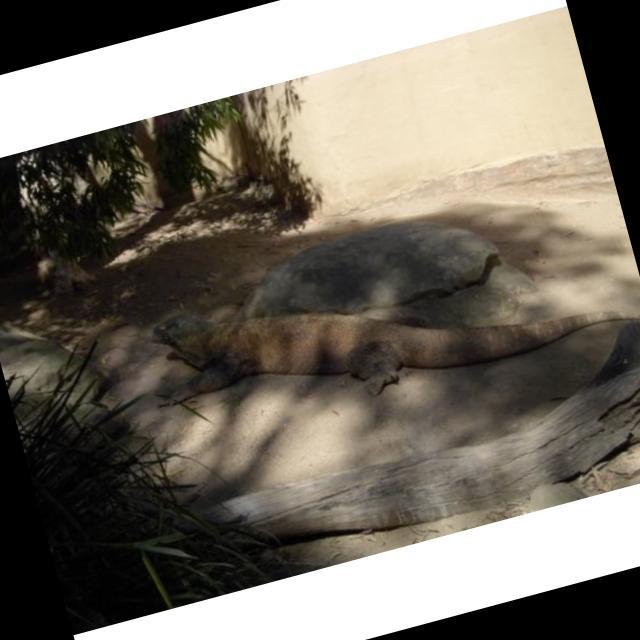KomodoDragon: (151, 198, 640, 468)
